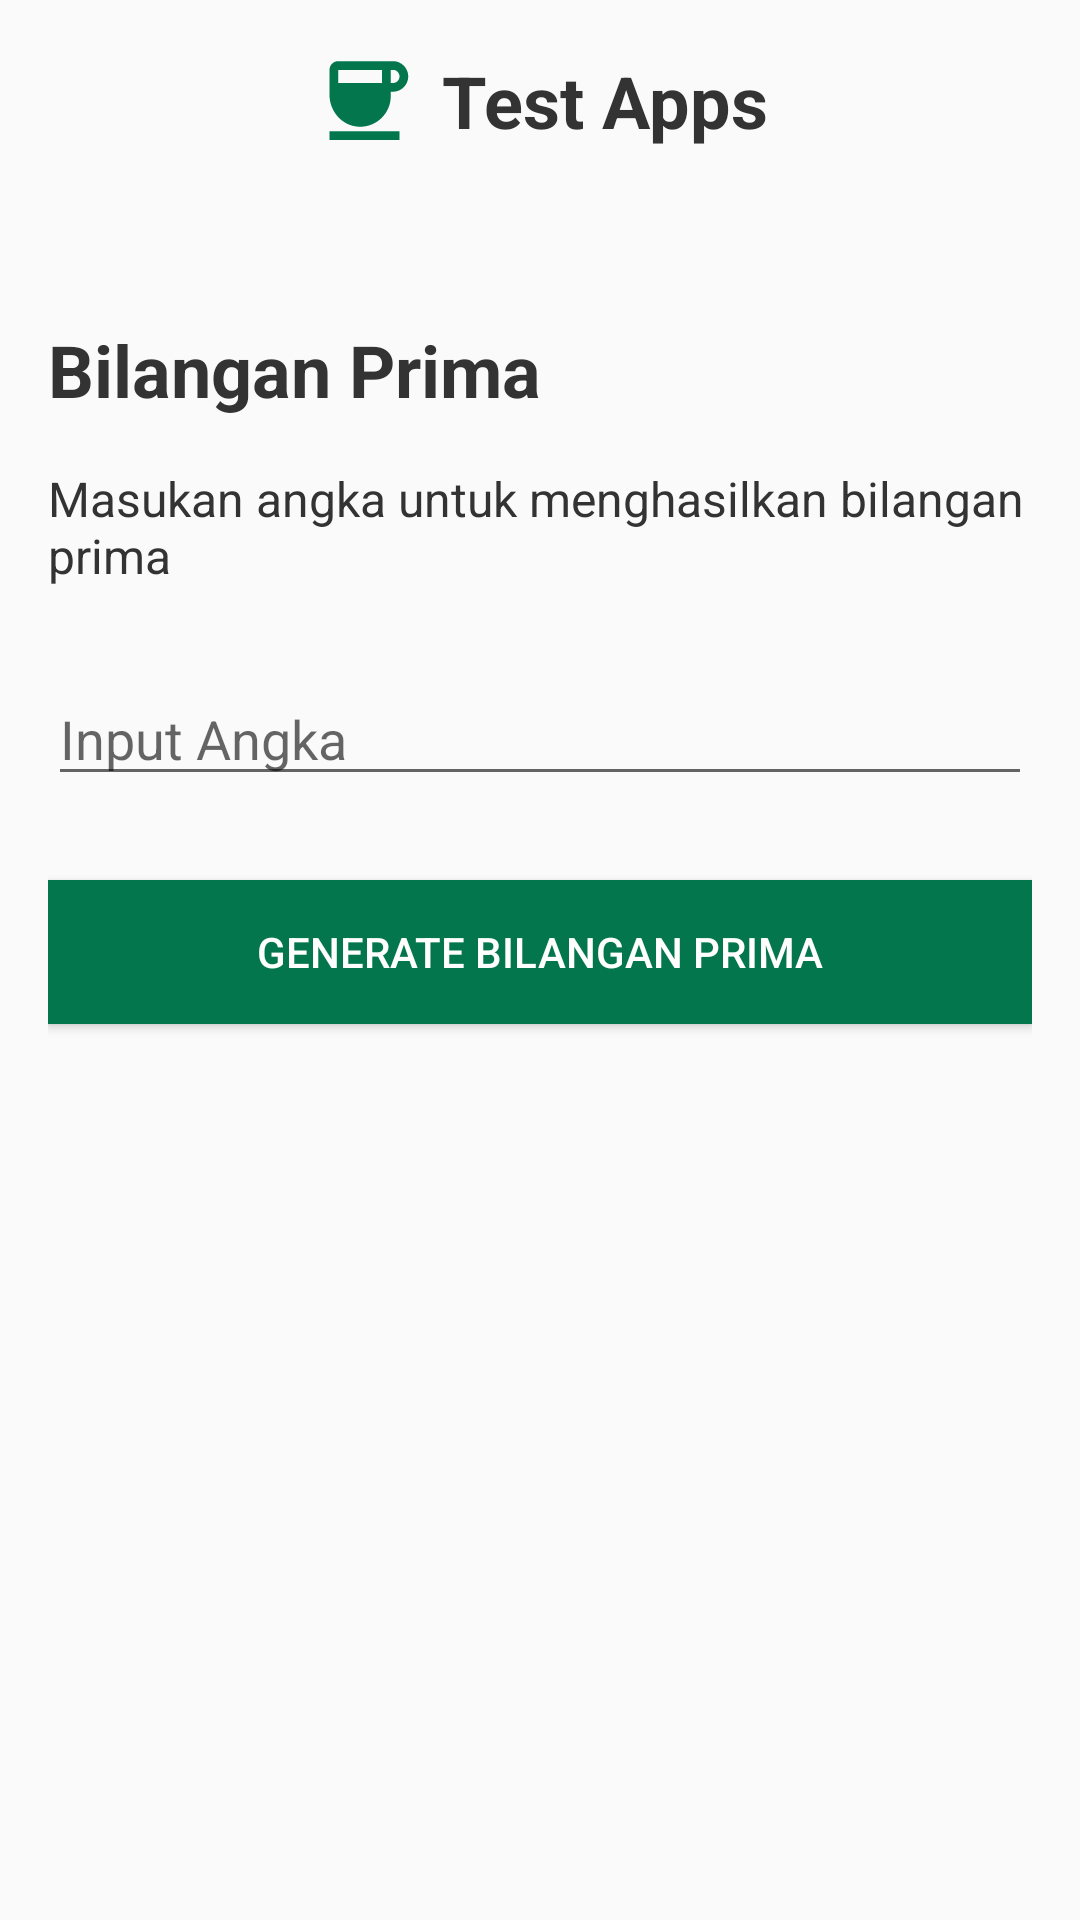

Screen size 1080*1920. Icon name, then its center in pixels as point (x, y):
coffe: point (369, 100)
